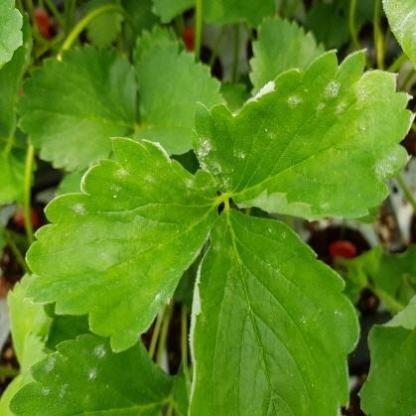Strawberry_Powdery_Mildew_Leaf: (23, 136, 221, 354), (188, 49, 415, 220), (186, 206, 362, 415), (6, 332, 175, 415), (380, 0, 415, 66)
